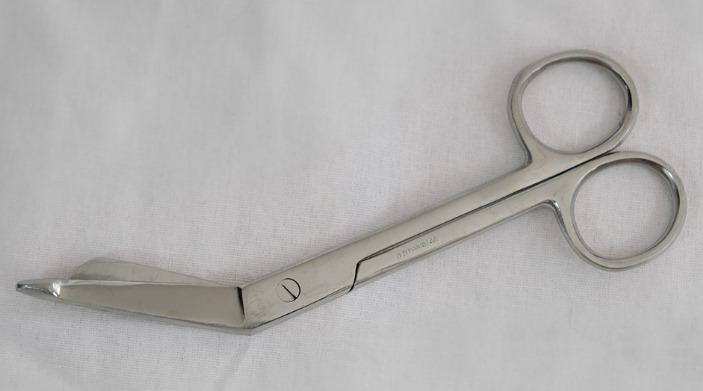Bandage Sciccors: (5, 49, 692, 342)
